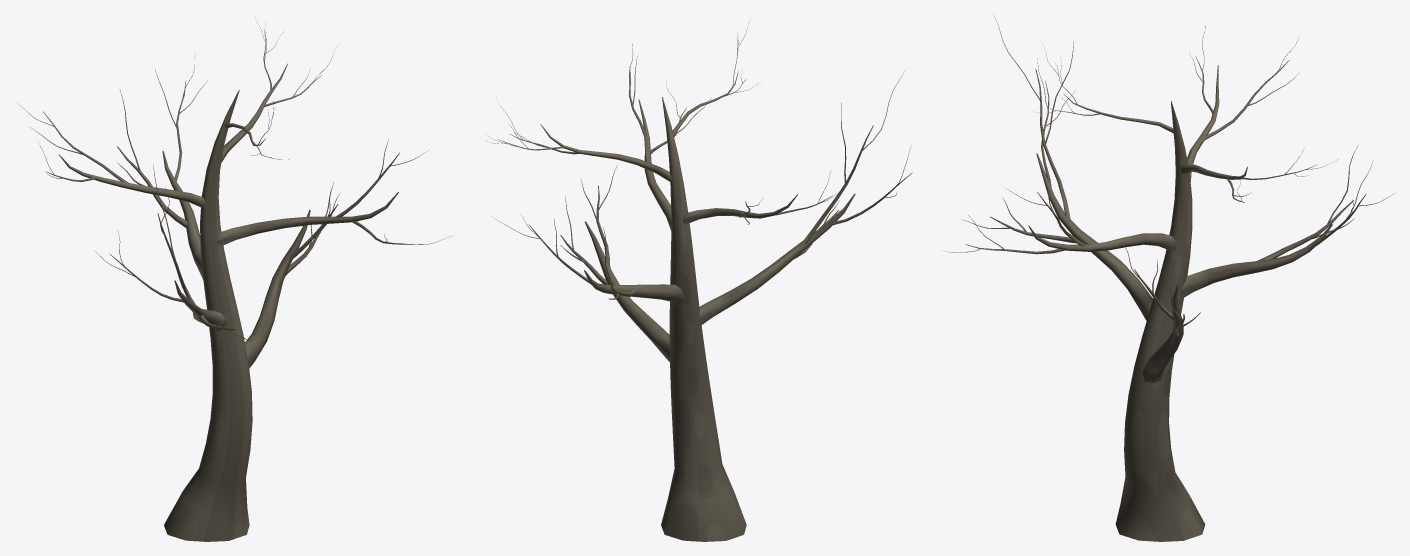
The model's file is tree.gltf.
3 renders of one model, left to right at view 1: azimuth 30°, elevation 25°; view 2: azimuth 150°, elevation 25°; view 3: azimuth 270°, elevation 25°, orthographic. The views are drawn at different scales.
Visible parts, largest first — view 1: Tree_LOD0; view 2: Tree_LOD0; view 3: Tree_LOD0.
Part boxes in pixels (<box>): Tree_LOD0: <box>20,18,451,541</box>; Tree_LOD0: <box>485,23,912,541</box>; Tree_LOD0: <box>945,14,1394,541</box>.
Bounding box in the file's own units: 12.02 × 16.57 × 13.99.
1 material, 1 textured.
